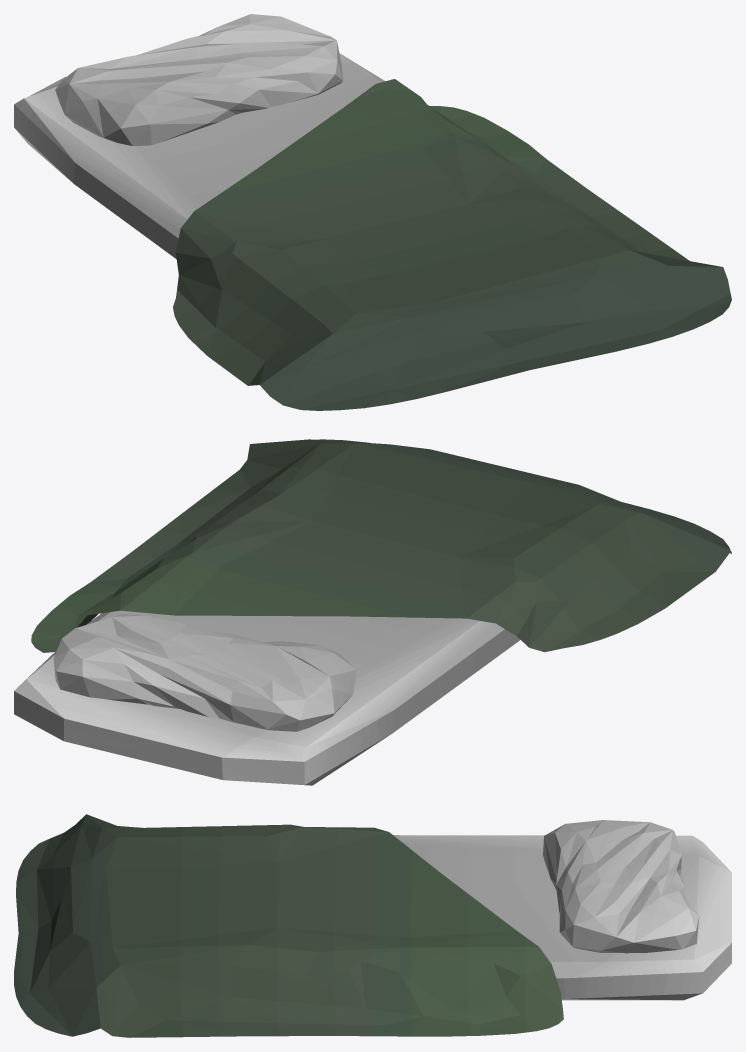
Rendered from Mattress.fbx.
3 views of the same model, one above another, from view 1: azimuth 30°, elevation 25°; view 2: azimuth 150°, elevation 25°; view 3: azimuth 270°, elevation 25° (orthographic). The views are drawn at different scales.
Visible parts, largest first — view 1: Mattress; view 2: Mattress; view 3: Mattress.
Boxes of the visible parts, x1,y1,x2,y2 form: Mattress: [14, 14, 731, 410]; Mattress: [14, 439, 731, 785]; Mattress: [14, 814, 731, 1037].
Bounding box in the file's own units: 326 × 53.11 × 468.
